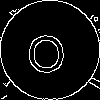O: (25, 25, 67, 74)
